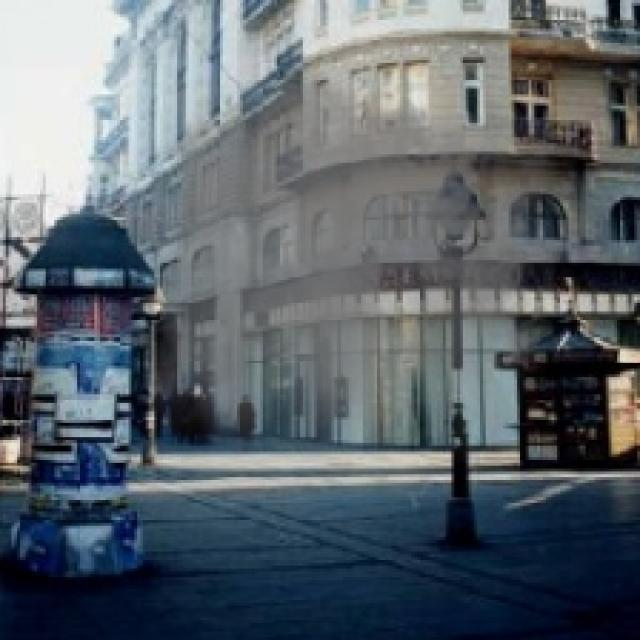Smoke: (148, 48, 558, 463)
